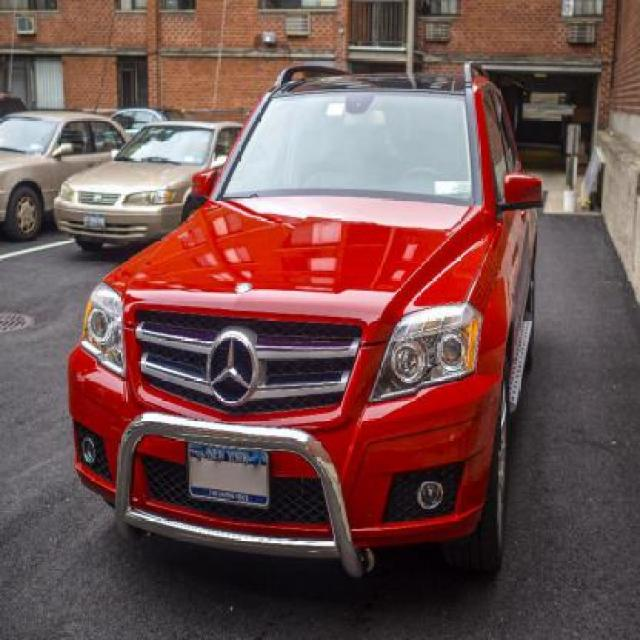License-Plates: (187, 439, 270, 510)
